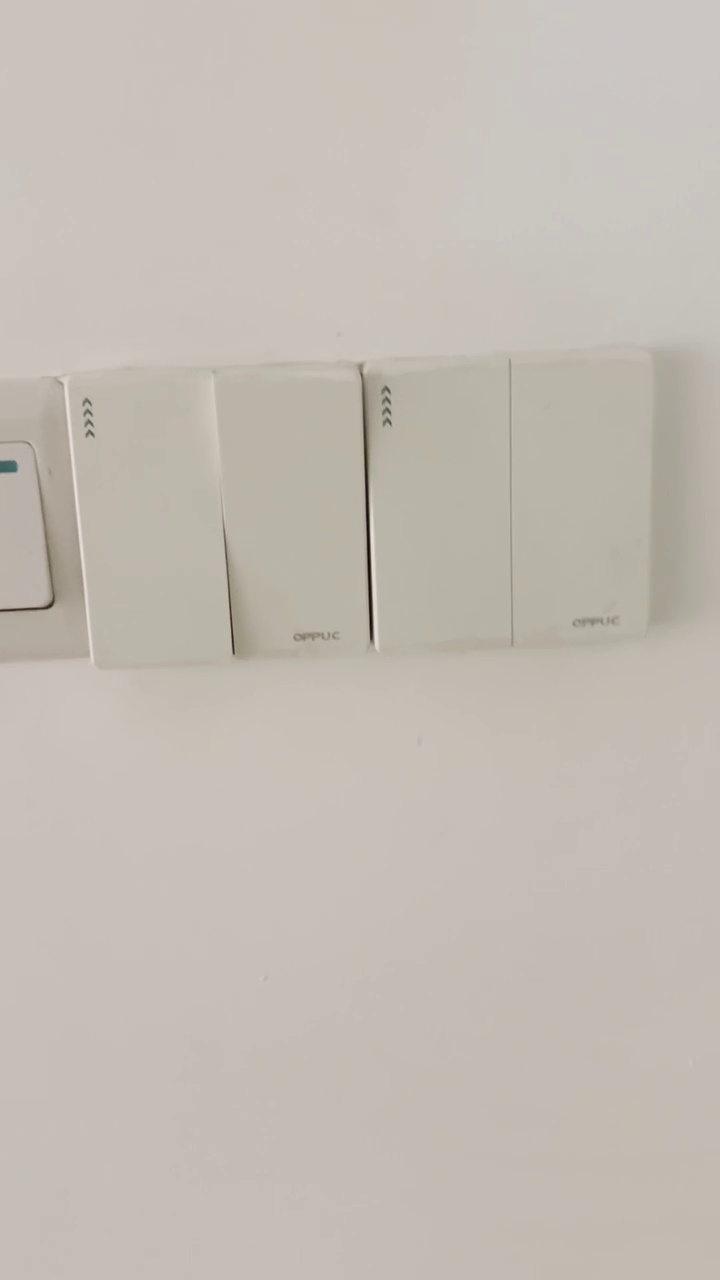button1: (220, 365, 372, 663), (72, 374, 224, 663), (376, 366, 507, 645), (517, 362, 640, 631)
